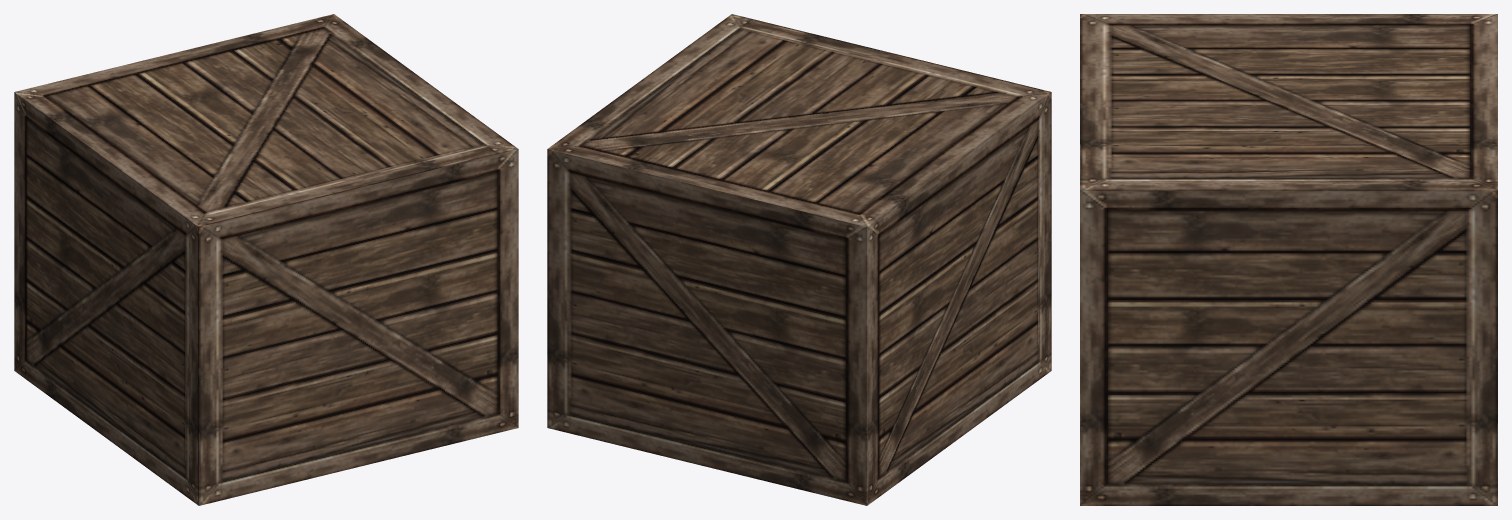
The model's file is WoodenBoxA.fbx.
3 renders of one model, left to right at view 1: azimuth 30°, elevation 25°; view 2: azimuth 150°, elevation 25°; view 3: azimuth 270°, elevation 25°, orthographic. The views are drawn at different scales.
Visible parts, largest first — view 1: WoodenBoxA; view 2: WoodenBoxA; view 3: WoodenBoxA.
Boxes of the visible parts, bbox=[...] form: WoodenBoxA: bbox=[14, 14, 518, 505]; WoodenBoxA: bbox=[547, 14, 1051, 505]; WoodenBoxA: bbox=[1080, 14, 1497, 505].
Size of the model in its own units: 91.44 by 76.2 by 91.44.
